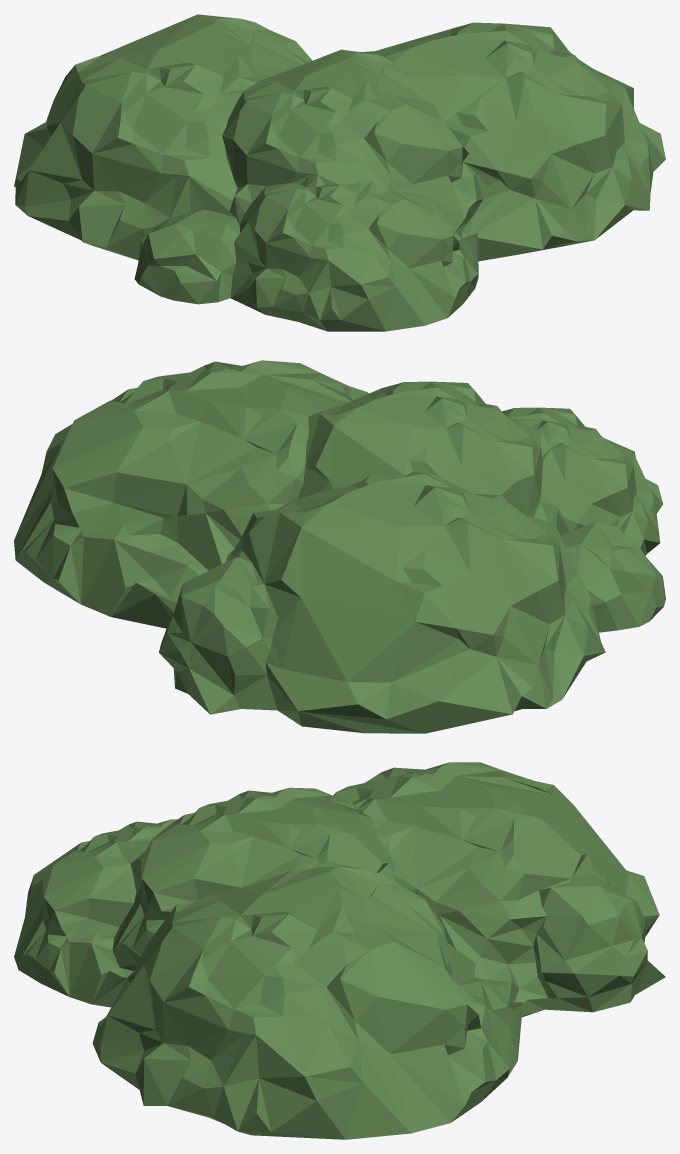
File: zone1-stone3.glb
3 renders of one model, top to bottom at view 1: azimuth 30°, elevation 25°; view 2: azimuth 150°, elevation 25°; view 3: azimuth 270°, elevation 25°, orthographic. The views are drawn at different scales.
Parts seen in each view (by area): view 1: vegetation-sea-chunk-a.001; view 2: vegetation-sea-chunk-a.001; view 3: vegetation-sea-chunk-a.001.
Boxes of the visible parts, x1,y1,x2,y2 form: vegetation-sea-chunk-a.001: [14, 14, 665, 331]; vegetation-sea-chunk-a.001: [14, 360, 665, 733]; vegetation-sea-chunk-a.001: [14, 762, 665, 1139].
Size of the model in its own units: 10.36 by 2.82 by 9.96.
